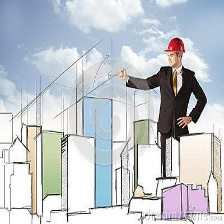helmet: (166, 39, 186, 53)
person: (155, 55, 207, 131)
